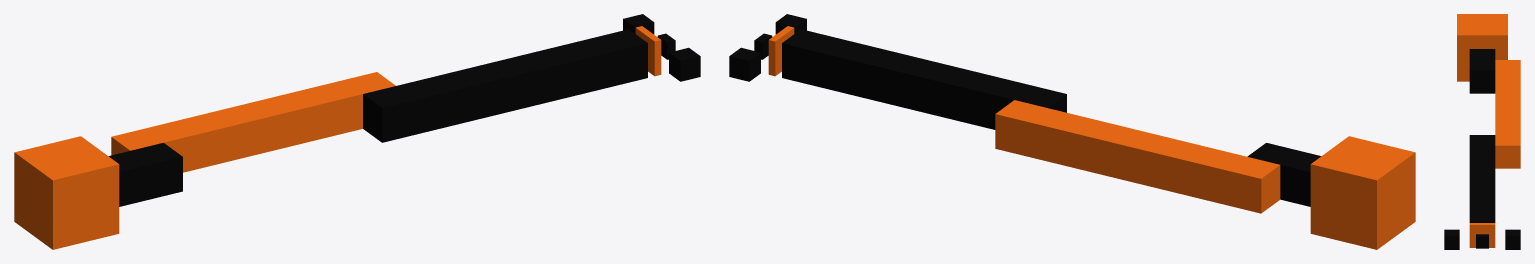
Rendered from my_robo.dae.
3 views of the same model, side by side, from view 1: azimuth 30°, elevation 25°; view 2: azimuth 150°, elevation 25°; view 3: azimuth 270°, elevation 25° (orthographic). The views are drawn at different scales.
Parts seen in each view (by area): view 1: link4, link3, link1, link2, link_cam2, link5, link_cam1; view 2: link3, link4, link1, link2, link_cam1, link5, link_cam2; view 3: link3, link4, link1, link2, link5, link_cam1, link_cam2, link6.
Boxes of the visible parts, x1,y1,x2,y2 form: link4: [363, 29, 647, 142]; link3: [111, 72, 395, 172]; link1: [14, 136, 119, 249]; link2: [108, 143, 182, 206]; link_cam2: [669, 47, 700, 81]; link5: [635, 26, 661, 76]; link_cam1: [623, 14, 654, 34]; link3: [995, 100, 1280, 213]; link4: [782, 29, 1066, 129]; link1: [1310, 136, 1415, 249]; link2: [1247, 143, 1321, 206]; link_cam1: [729, 47, 760, 81]; link5: [768, 26, 794, 76]; link_cam2: [775, 14, 806, 34]; link3: [1495, 60, 1520, 168]; link4: [1469, 135, 1495, 222]; link1: [1457, 14, 1507, 81]; link2: [1469, 49, 1495, 93]; link5: [1469, 223, 1495, 247]; link_cam1: [1505, 229, 1520, 249]; link_cam2: [1444, 229, 1459, 249]; link6: [1476, 234, 1488, 248].
Bounding box in the file's own units: 0.96 × 0.15 × 0.1.
